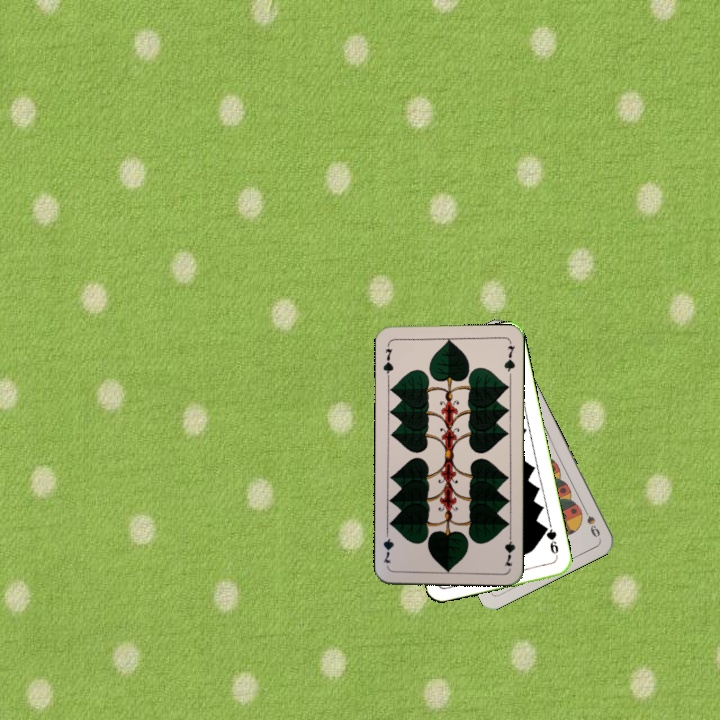G7: (501, 528, 518, 569), (379, 345, 396, 380)
G9: (540, 522, 561, 561)
S9: (579, 502, 603, 540)
